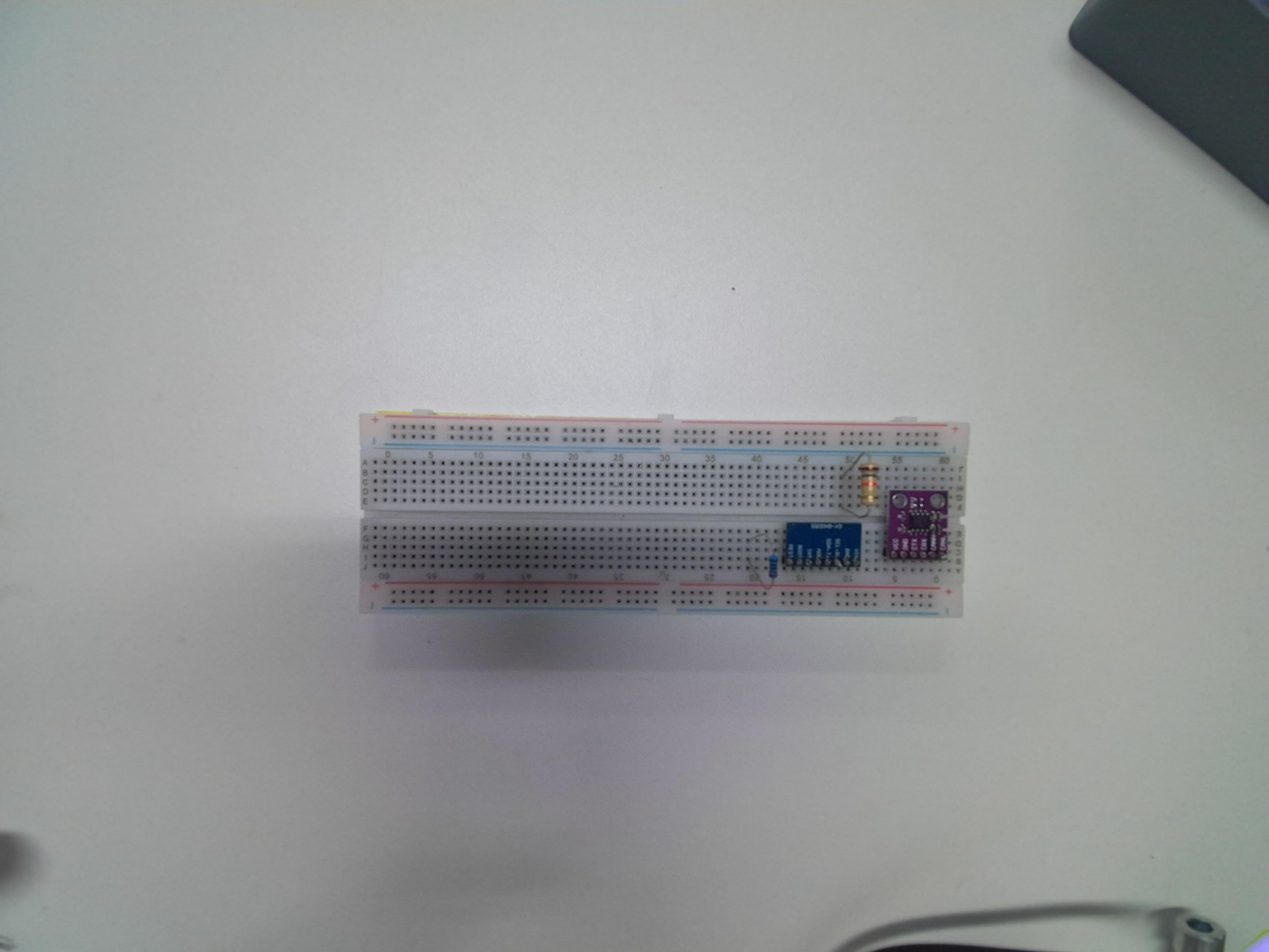base: (354, 415, 970, 620)
blue-board: (782, 519, 863, 571)
purple-board: (883, 488, 951, 563)
resistor-big: (859, 460, 878, 507)
resistor-small: (767, 553, 780, 581)
